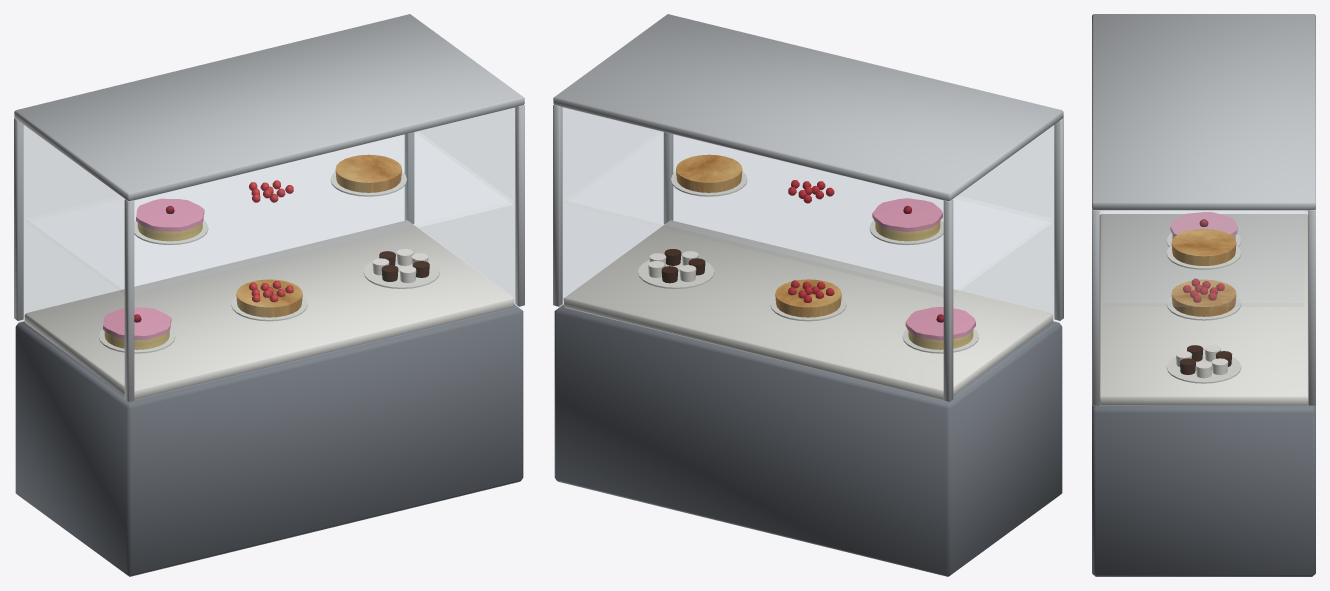
The model's file is buffet_dessert_display_case.glb.
3 renders of one model, left to right at view 1: azimuth 30°, elevation 25°; view 2: azimuth 150°, elevation 25°; view 3: azimuth 270°, elevation 25°, orthographic. The views are drawn at different scales.
Visible parts, largest first — view 1: buffet_dessert_display_case; view 2: buffet_dessert_display_case; view 3: buffet_dessert_display_case.
Part boxes in pixels (bbox=[...]): buffet_dessert_display_case: bbox=[14, 14, 524, 576]; buffet_dessert_display_case: bbox=[553, 14, 1063, 576]; buffet_dessert_display_case: bbox=[1092, 14, 1315, 576].
Bounding box in the file's own units: 1.2 × 1.11 × 0.6.
12 materials, 4 textured.
